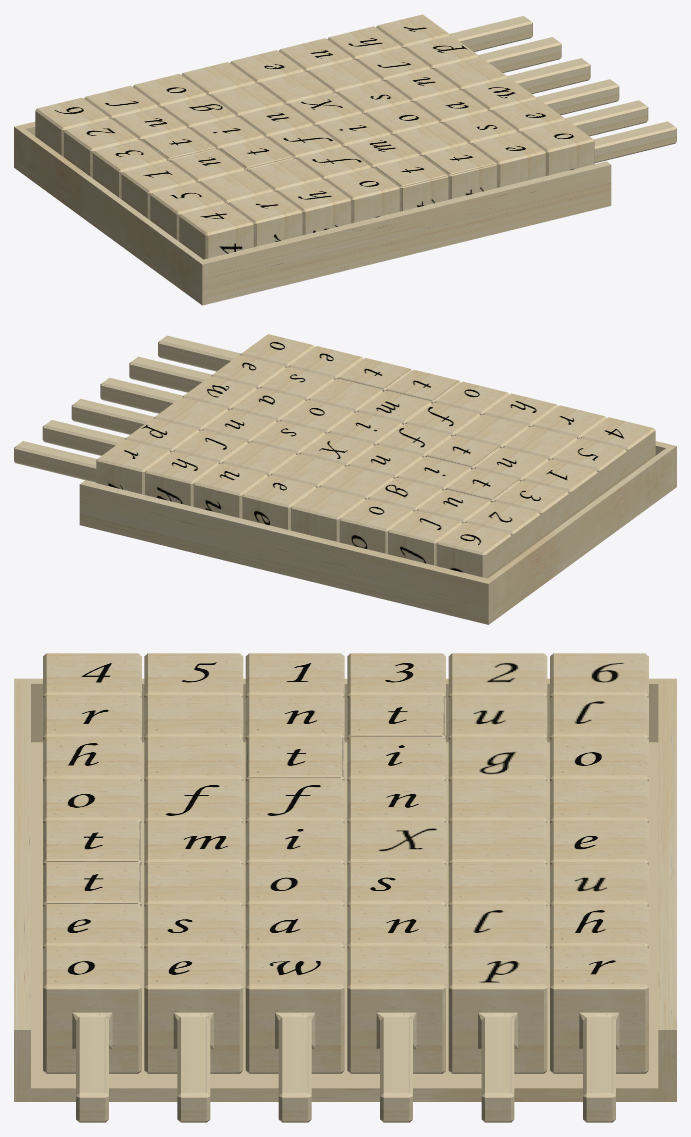
File: Transposition Cipher.fbx
3 renders of one model, top to bottom at view 1: azimuth 30°, elevation 25°; view 2: azimuth 150°, elevation 25°; view 3: azimuth 270°, elevation 25°, orthographic. The views are drawn at different scales.
Parts seen in each view (by area): view 1: Board, 4, 5, 1, 3, 2, 6; view 2: Board, 6, 2, 4, 5, 1, 3; view 3: 2, 5, 1, 4, 3, 6, Board.
Boxes of the visible parts, bbox=[...] form: Board: bbox=[14, 121, 611, 305]; 4: bbox=[179, 120, 676, 259]; 5: bbox=[150, 99, 648, 241]; 1: bbox=[121, 78, 619, 219]; 3: bbox=[93, 56, 590, 199]; 2: bbox=[64, 35, 561, 178]; 6: bbox=[35, 14, 532, 156]; Board: bbox=[79, 441, 676, 624]; 6: bbox=[14, 439, 511, 578]; 2: bbox=[42, 418, 540, 560]; 4: bbox=[158, 334, 655, 476]; 5: bbox=[129, 355, 626, 497]; 1: bbox=[100, 376, 597, 518]; 3: bbox=[71, 397, 568, 539]; 2: bbox=[448, 653, 547, 1122]; 5: bbox=[144, 653, 243, 1122]; 1: bbox=[245, 653, 344, 1122]; 4: bbox=[43, 653, 141, 1122]; 3: bbox=[347, 653, 445, 1122]; 6: bbox=[550, 653, 648, 1122]; Board: bbox=[14, 678, 676, 1101].
Bounding box in the file's own units: 2766 × 334 × 1831.
Materials: 24 (24 with a texture image).
